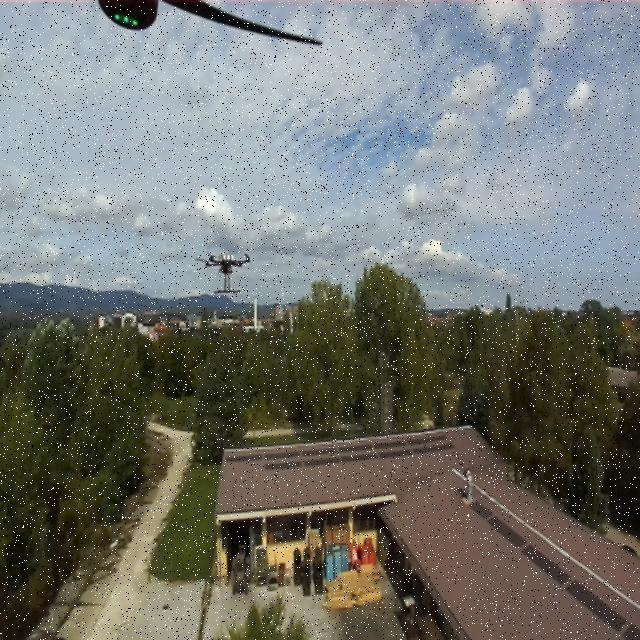UAV: (192, 245, 257, 298)
